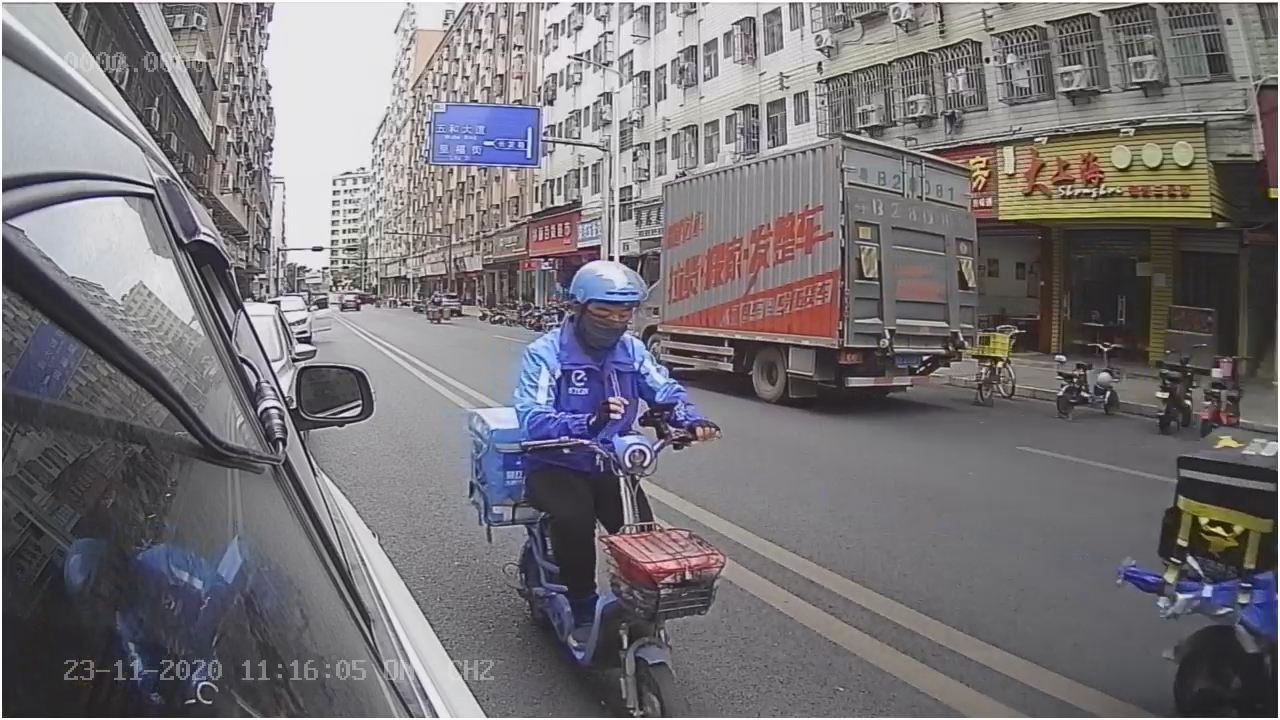person: (513, 252, 692, 413)
